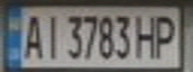3: (112, 11, 136, 60), (63, 11, 84, 60)
7: (78, 11, 100, 60)
8: (97, 11, 118, 61)
A: (18, 10, 45, 61)
H: (133, 11, 160, 60)
I: (39, 10, 63, 61)
P: (151, 11, 181, 60)
